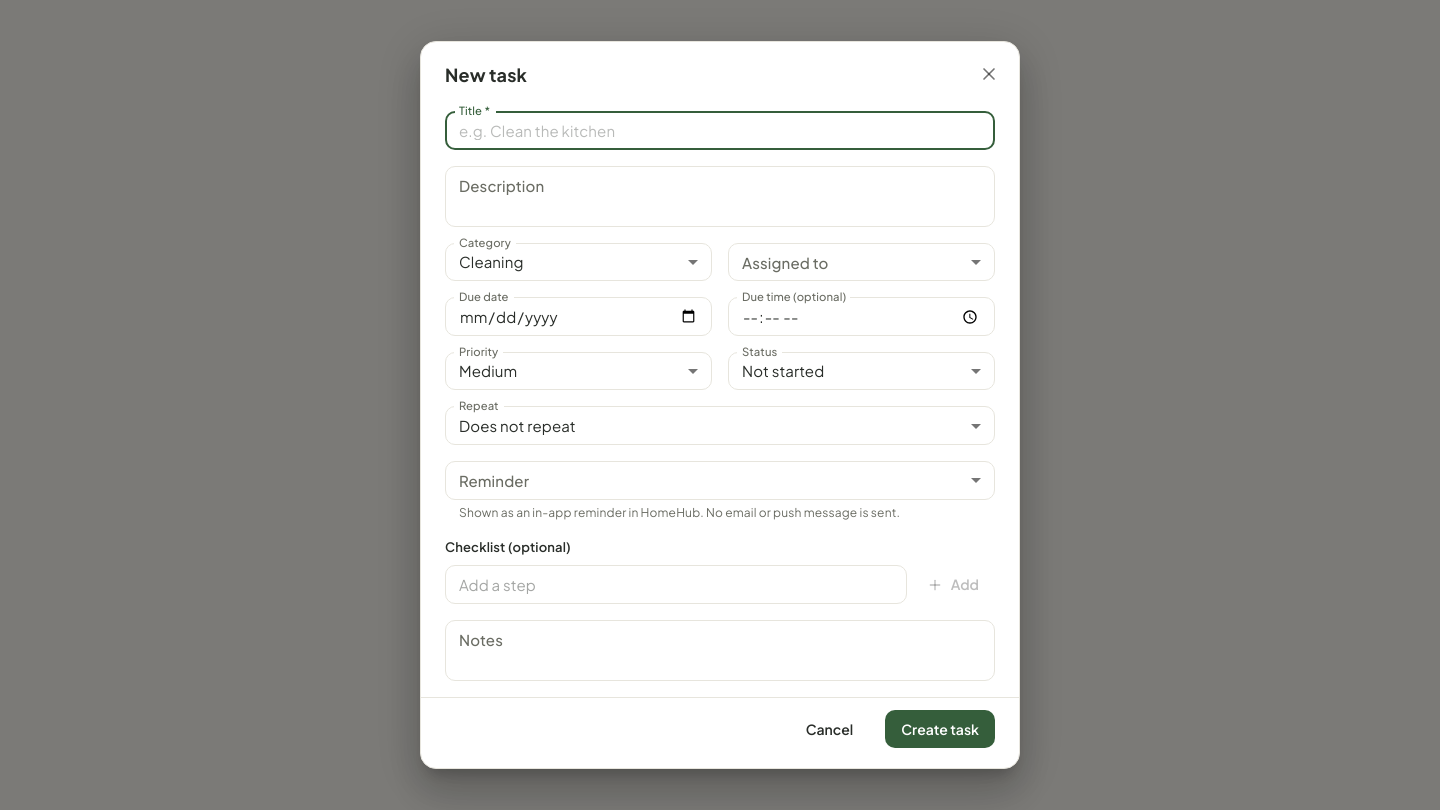
Test: TaskDialog › requires a due date for repeating tasks
In the field labelled "Title *": coordinates (720, 130) [445,111,995,150], type "Water plants"
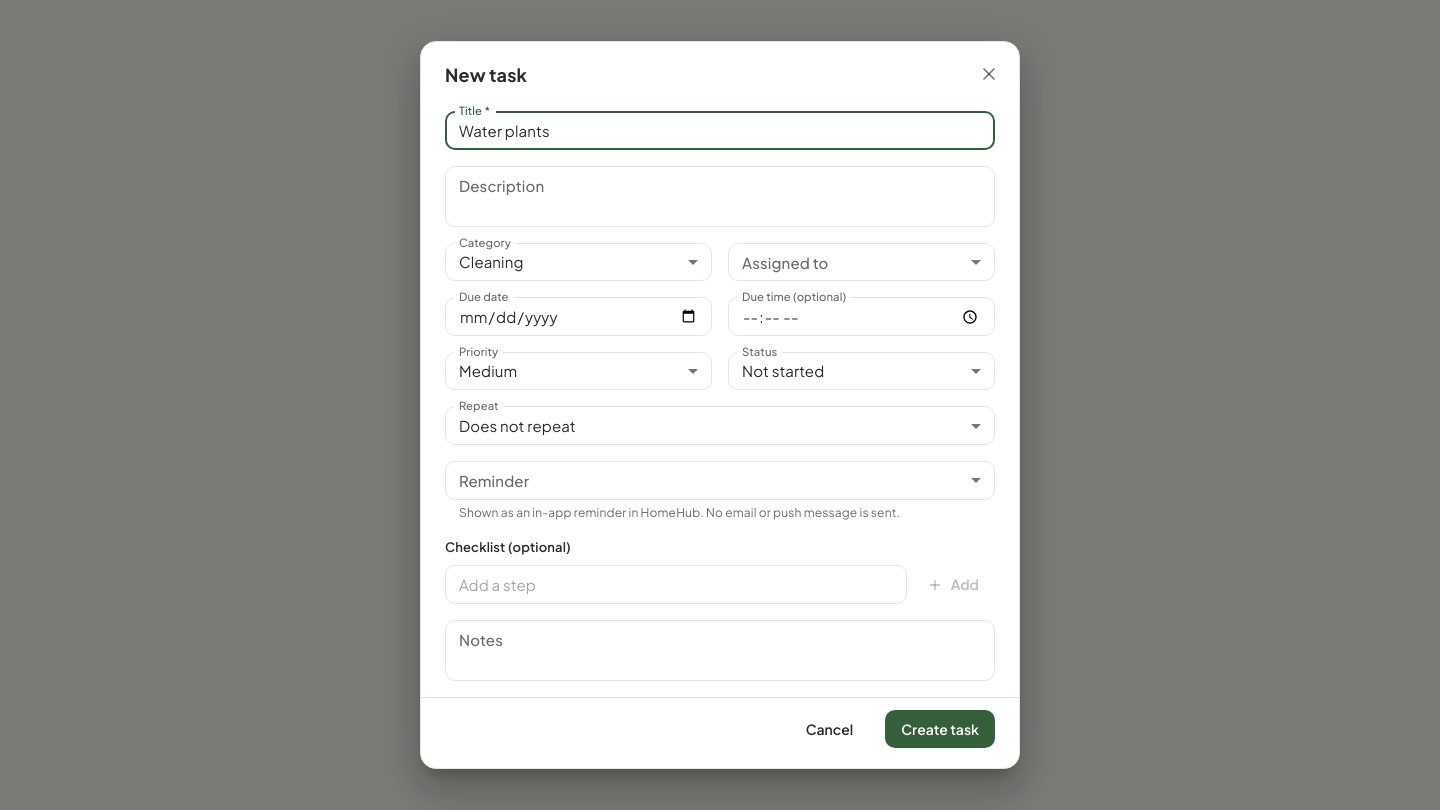
Click the dropdown labelled "repeat": coordinates (517, 426) [459,416,576,435]
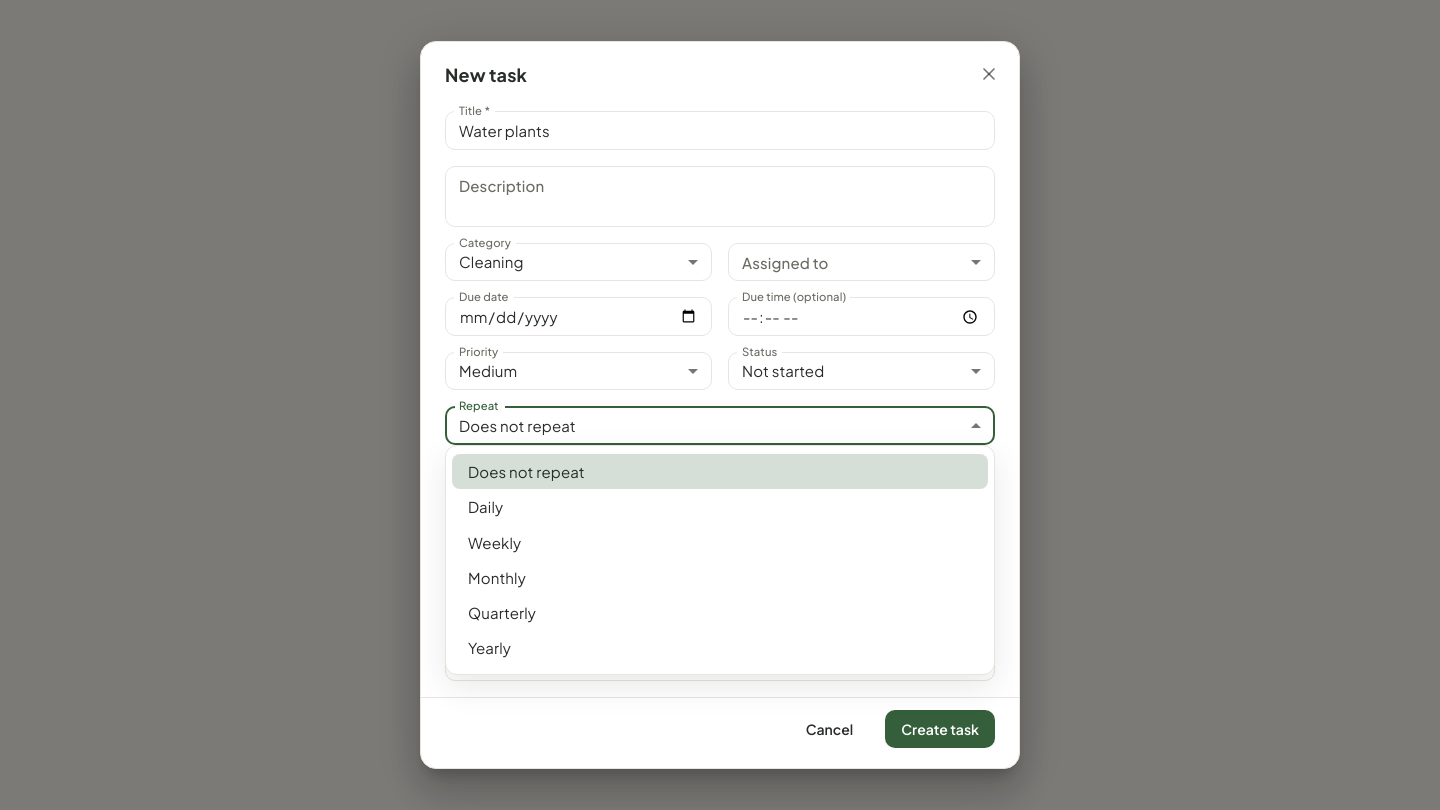
Click the option "Daily": coordinates (486, 507) [468,497,503,516]
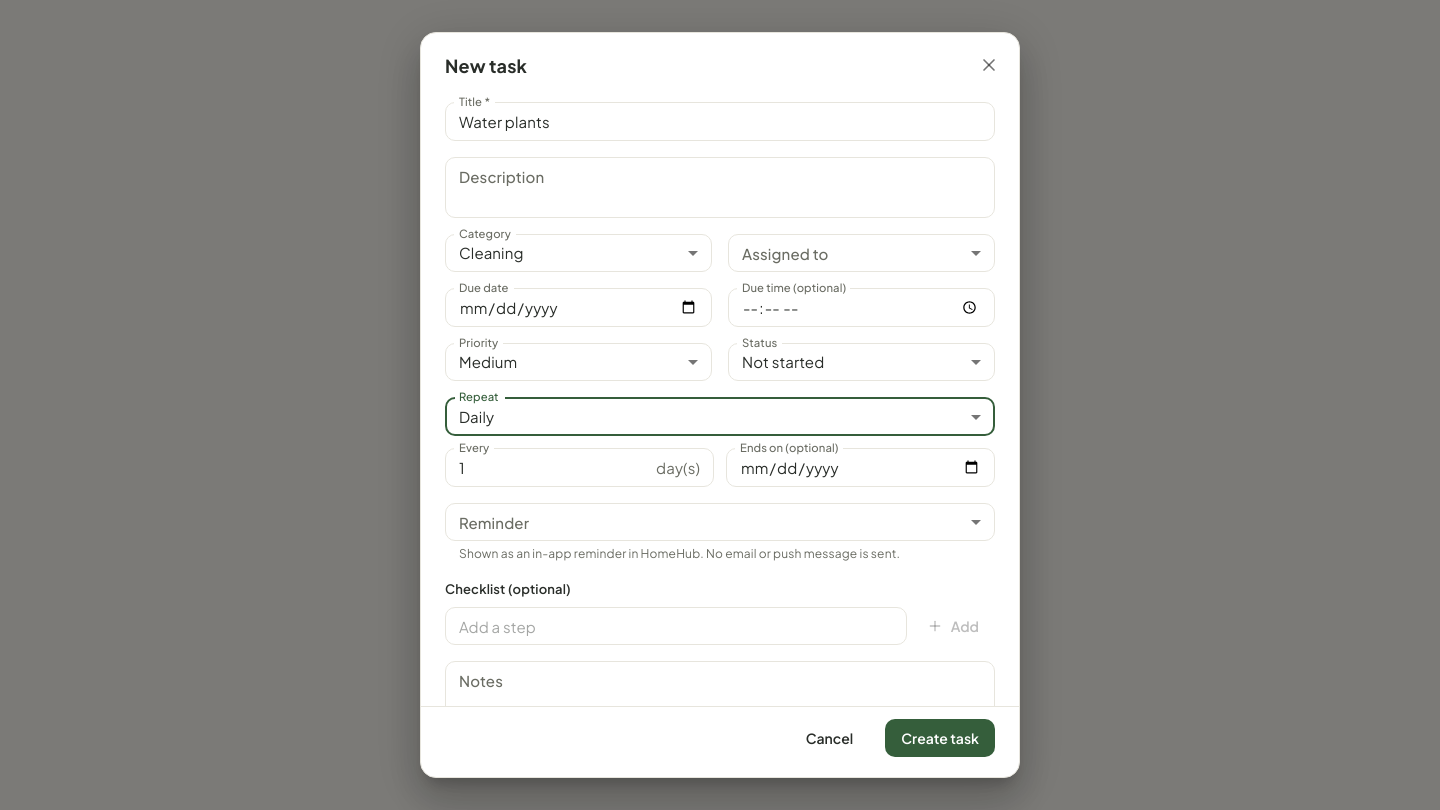
Click the button "Create task": coordinates (940, 738) [885,719,995,757]
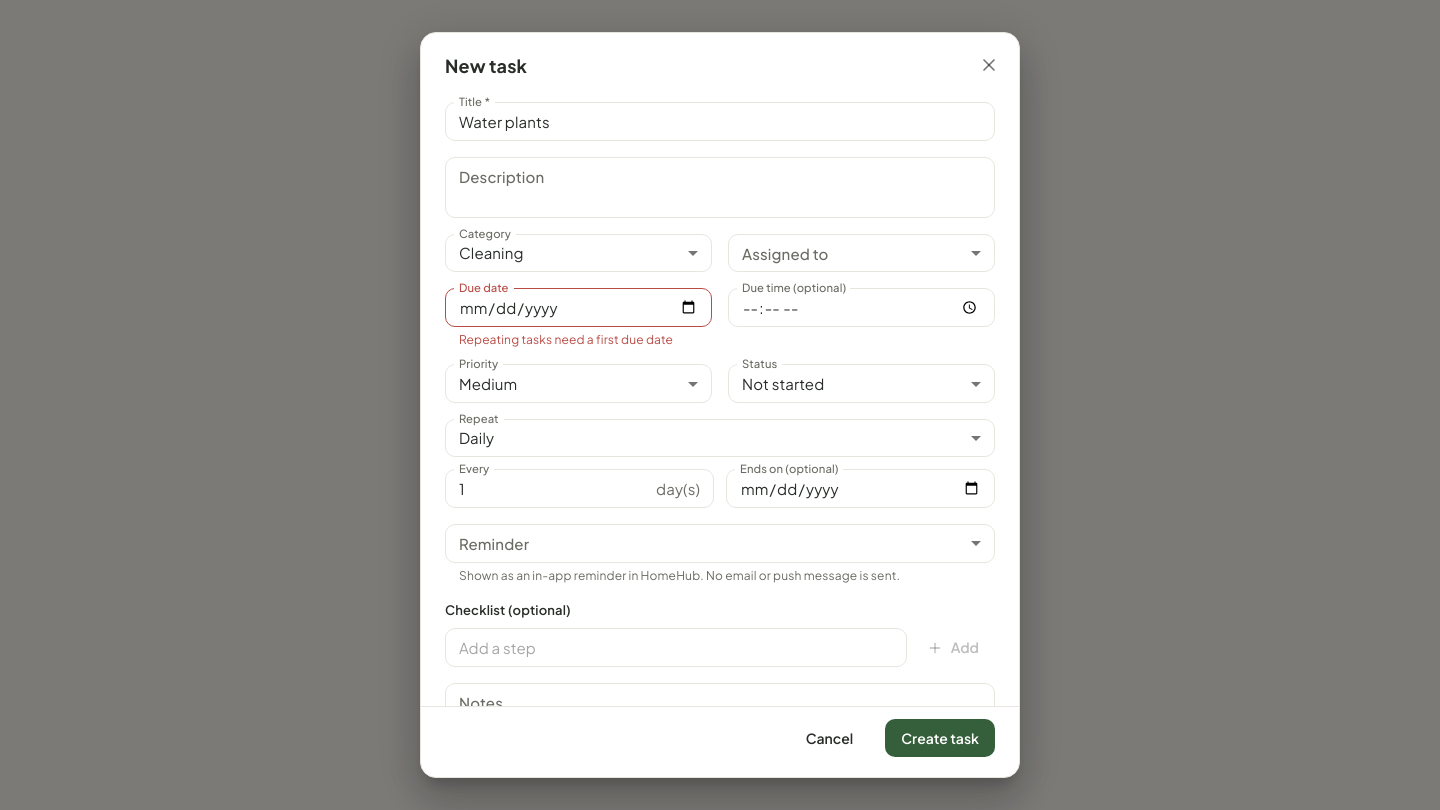
Now the text "Repeating tasks need a first due date" is shown, box [459,331,698,348]
